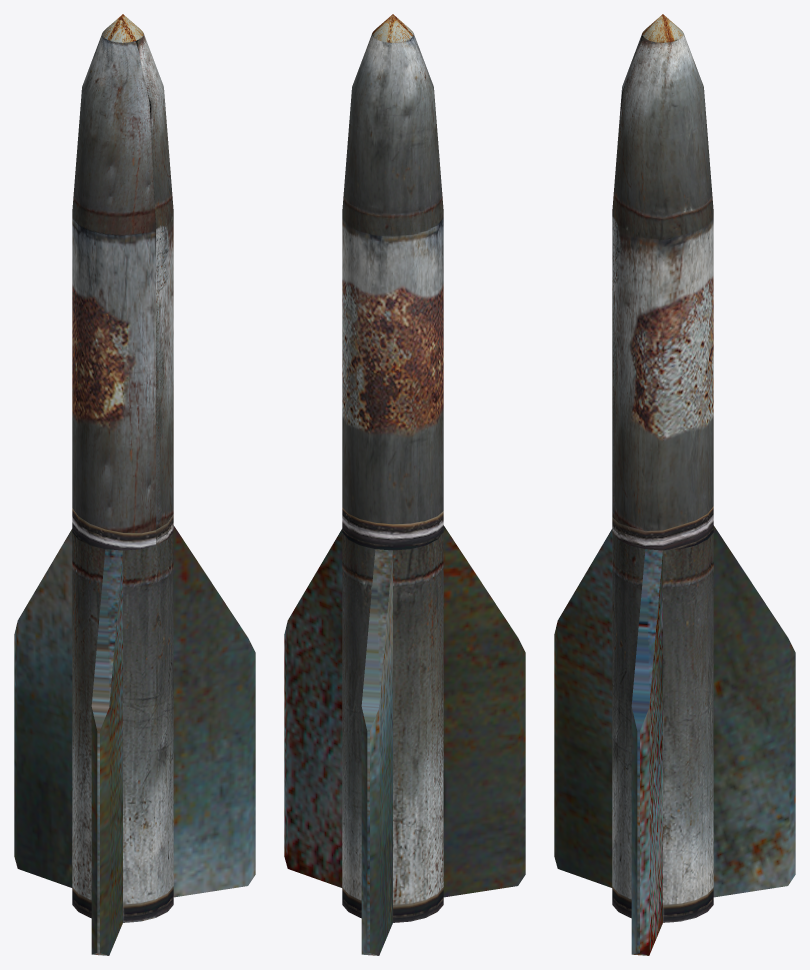
The model's file is MetalMissle.FBX.
3 views of the same model, side by side, from view 1: azimuth 30°, elevation 25°; view 2: azimuth 150°, elevation 25°; view 3: azimuth 270°, elevation 25° (orthographic).
Visible parts, largest first — view 1: Cylinder001; view 2: Cylinder001; view 3: Cylinder001.
Part boxes in pixels (x1,y1,x2,y2): Cylinder001: (14, 14, 255, 955); Cylinder001: (284, 14, 525, 955); Cylinder001: (554, 14, 795, 955).
Bounding box in the file's own units: 4.63 × 19.7 × 4.85.
1 material, 1 textured.
